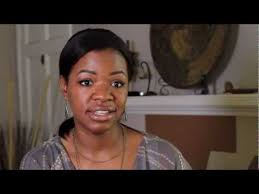black_female: (59, 29, 140, 135)
